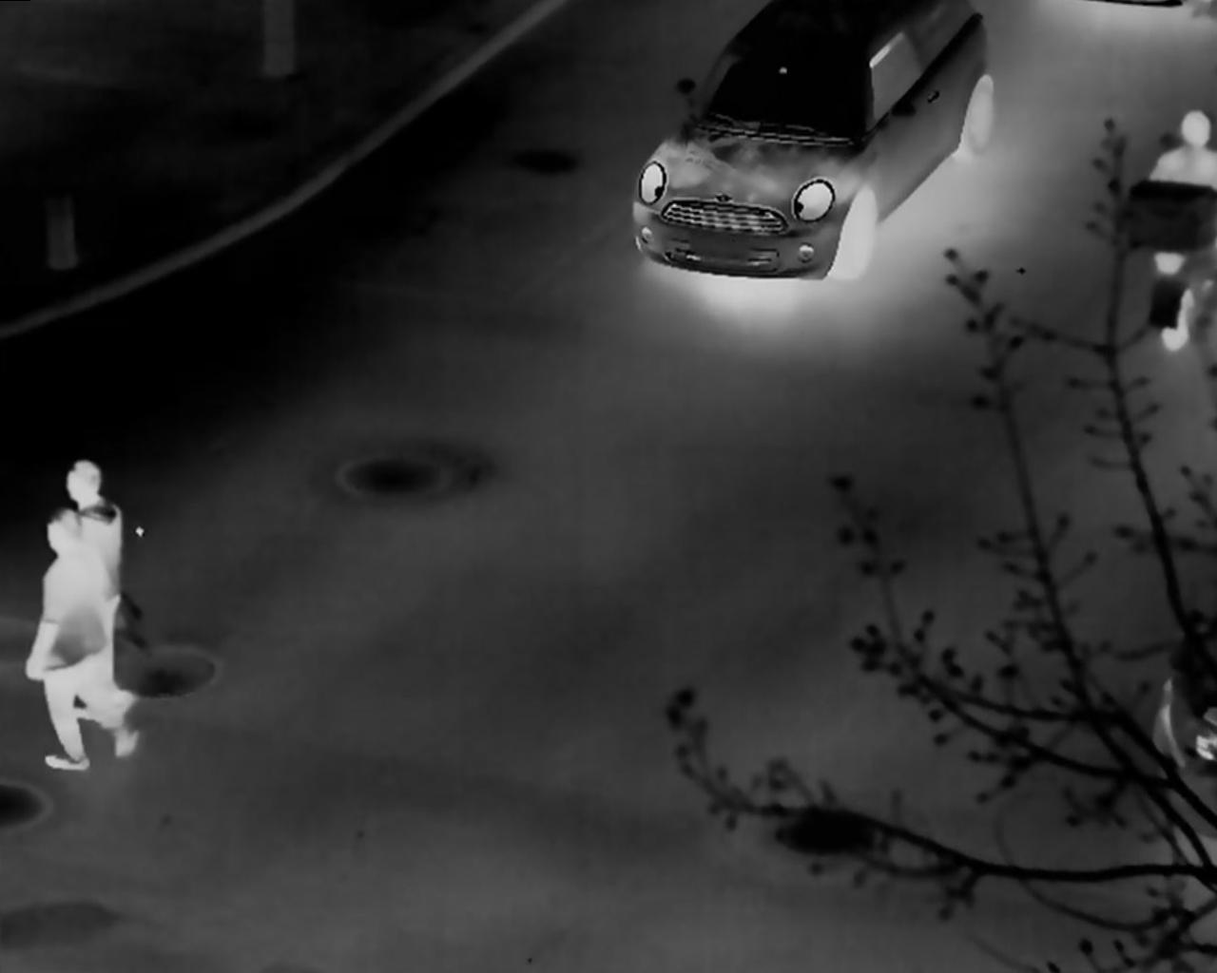person: (36, 514, 121, 775), (55, 462, 139, 716), (1149, 110, 1217, 288)
